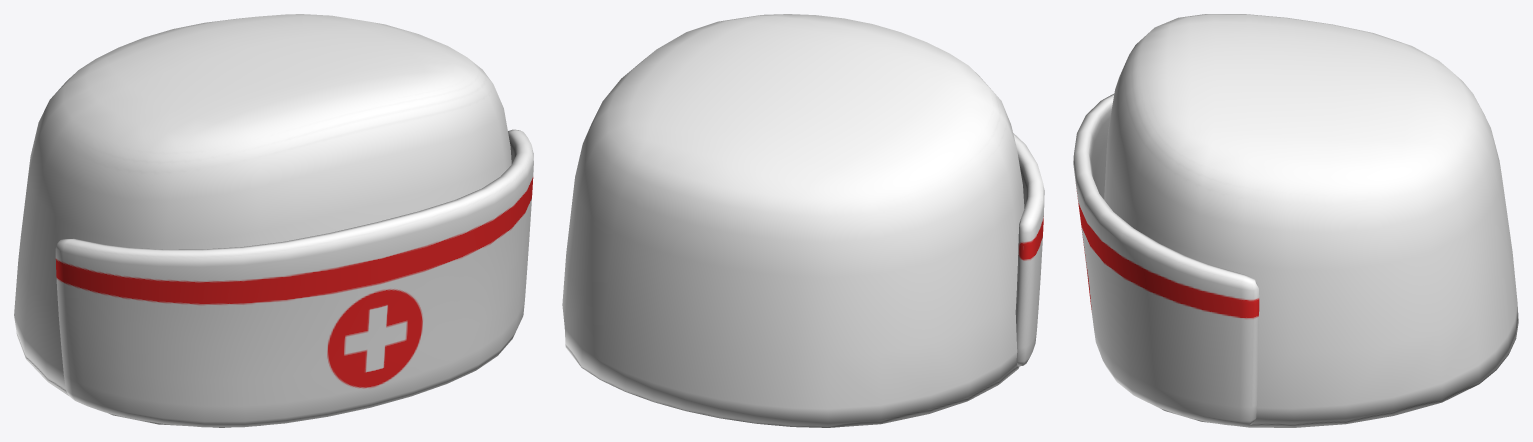
The model's file is Nurse Hat.fbx.
3 views of the same model, side by side, from view 1: azimuth 30°, elevation 25°; view 2: azimuth 150°, elevation 25°; view 3: azimuth 270°, elevation 25° (orthographic). The views are drawn at different scales.
Visible parts, largest first — view 1: Nurse-hat; view 2: Nurse-hat; view 3: Nurse-hat.
Part boxes in pixels (x1,y1,x2,y2): Nurse-hat: [14, 14, 533, 427]; Nurse-hat: [562, 14, 1044, 427]; Nurse-hat: [1073, 14, 1518, 427].
Bounding box in the file's own units: 26.73 × 15.65 × 23.59.
